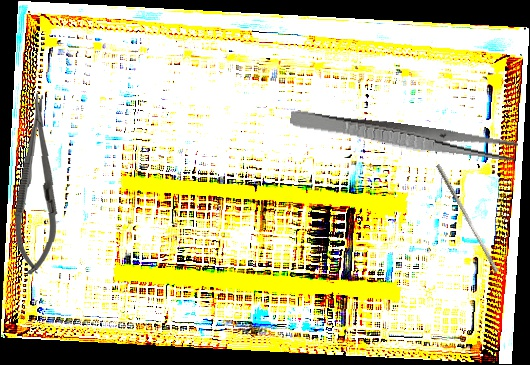Dressing Forceps: (288, 108, 519, 165)
Needle Holder: (12, 92, 62, 277)
Pusher: (431, 163, 503, 274)
